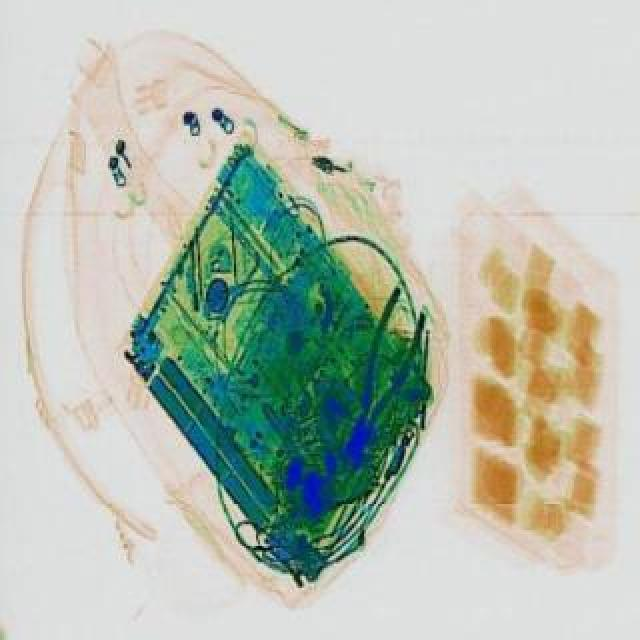wrench: (328, 284, 436, 466)
